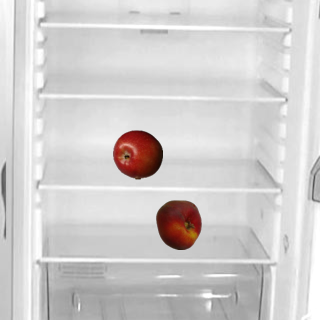Apple Braeburn: (112, 129, 162, 179)
Nectarine Flat: (153, 199, 203, 249)
